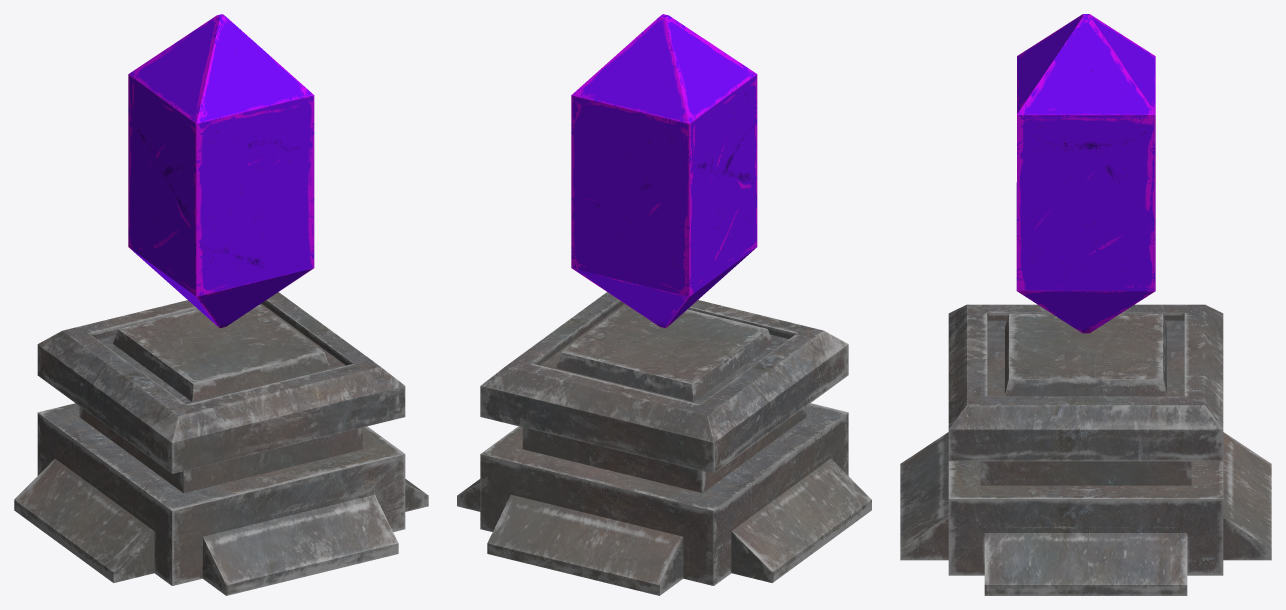
Rendered from altar completo.fbx.
3 renders of one model, left to right at view 1: azimuth 30°, elevation 25°; view 2: azimuth 150°, elevation 25°; view 3: azimuth 270°, elevation 25°, orthographic.
Visible parts, largest first — view 1: Altar, Gema; view 2: Altar, Gema; view 3: Altar, Gema.
Part boxes in pixels (x1,y1,x2,y2): Altar: [14, 292, 428, 595]; Gema: [128, 14, 314, 328]; Altar: [457, 292, 871, 595]; Gema: [571, 14, 757, 328]; Altar: [900, 304, 1271, 595]; Gema: [1016, 14, 1155, 333].
Bounding box in the file's own units: 4468 × 6669 × 4468.
Materials: 1 (1 with a texture image).
